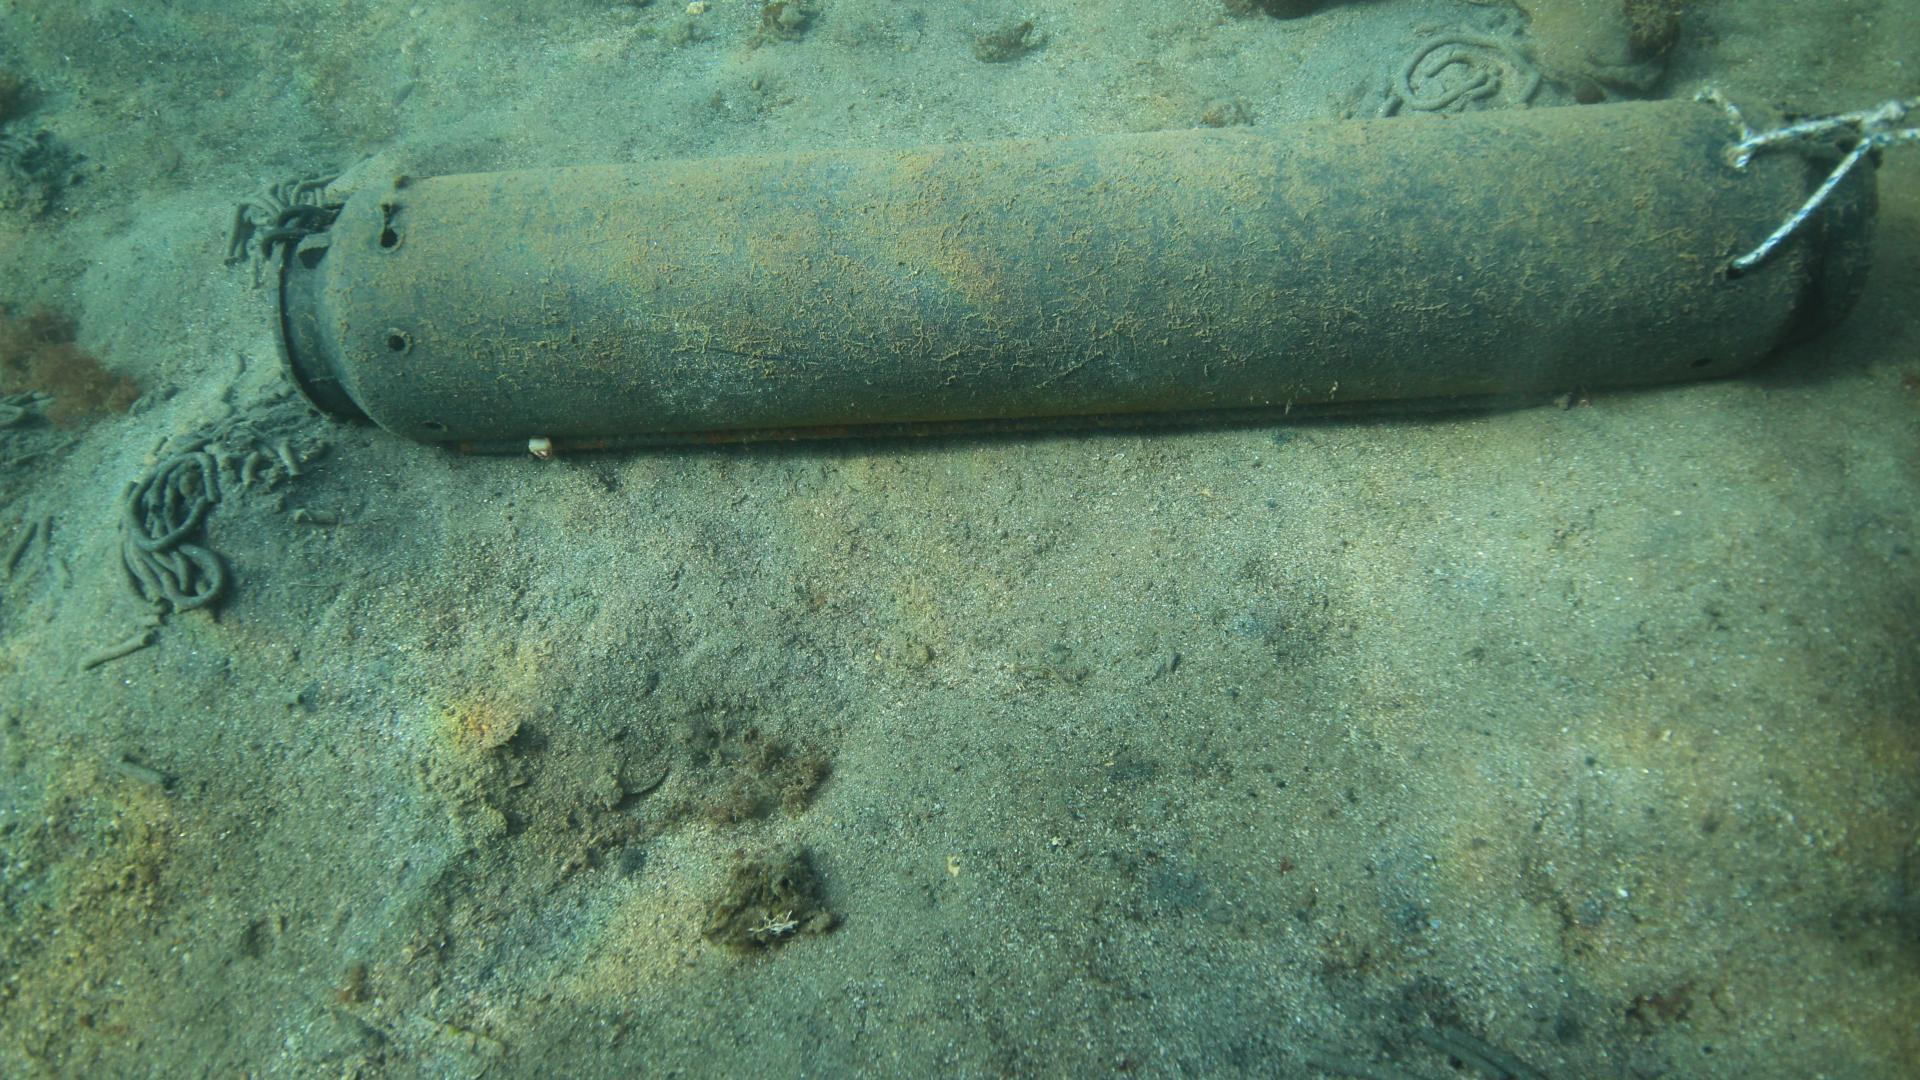bundle of ropes: (1691, 74, 1920, 272)
eel fish trap: (268, 87, 1886, 459)
